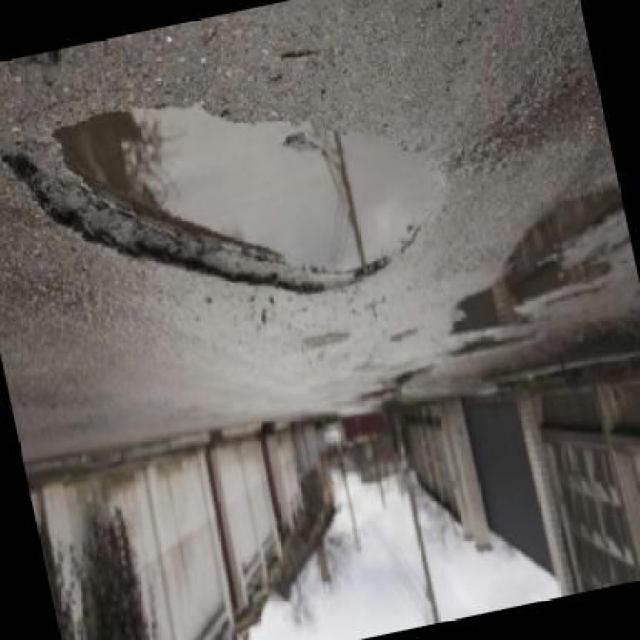pothole1: (0, 42, 466, 358)
